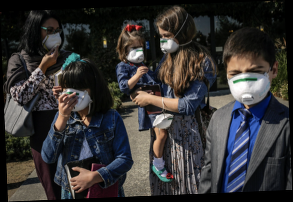with_mask: (227, 63, 273, 106), (63, 85, 92, 114), (41, 24, 64, 52), (160, 30, 181, 55), (127, 43, 146, 64)
